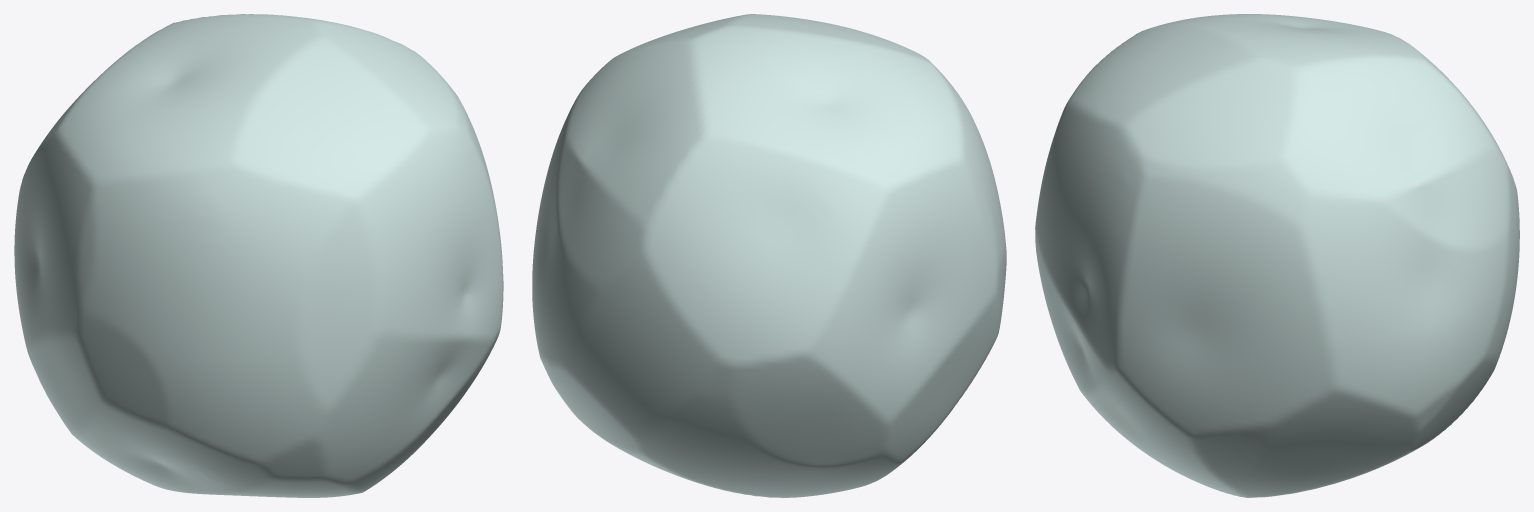
Rendered from Snowball.fbx.
3 views of the same model, side by side, from view 1: azimuth 30°, elevation 25°; view 2: azimuth 150°, elevation 25°; view 3: azimuth 270°, elevation 25° (orthographic). The views are drawn at different scales.
Parts seen in each view (by area): view 1: Cube; view 2: Cube; view 3: Cube.
Boxes of the visible parts, x1,y1,x2,y2 form: Cube: (14,14,503,497); Cube: (532,14,1006,497); Cube: (1035,14,1519,497).
Bounding box in the file's own units: 106 × 106 × 109.
